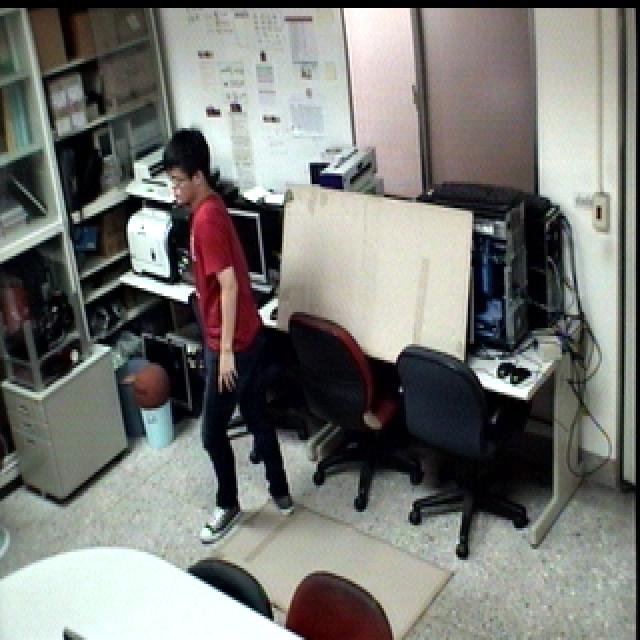stand: (160, 120, 303, 551)
